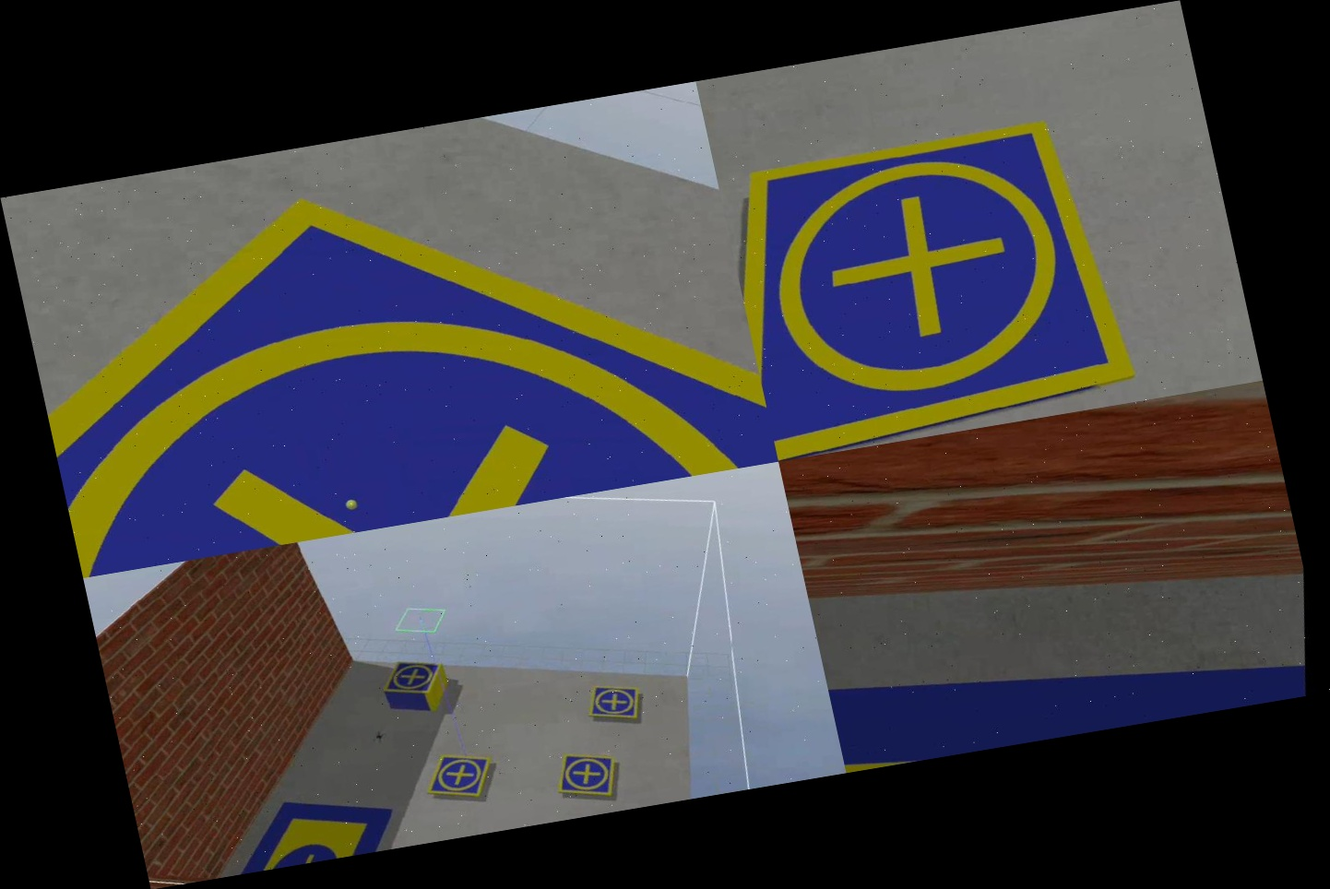large_base: (820, 573, 1311, 772), (220, 776, 402, 874)
small_base: (0, 81, 778, 578), (707, 60, 1192, 461), (418, 744, 501, 809), (549, 742, 626, 806), (378, 651, 449, 706), (578, 676, 649, 729)
